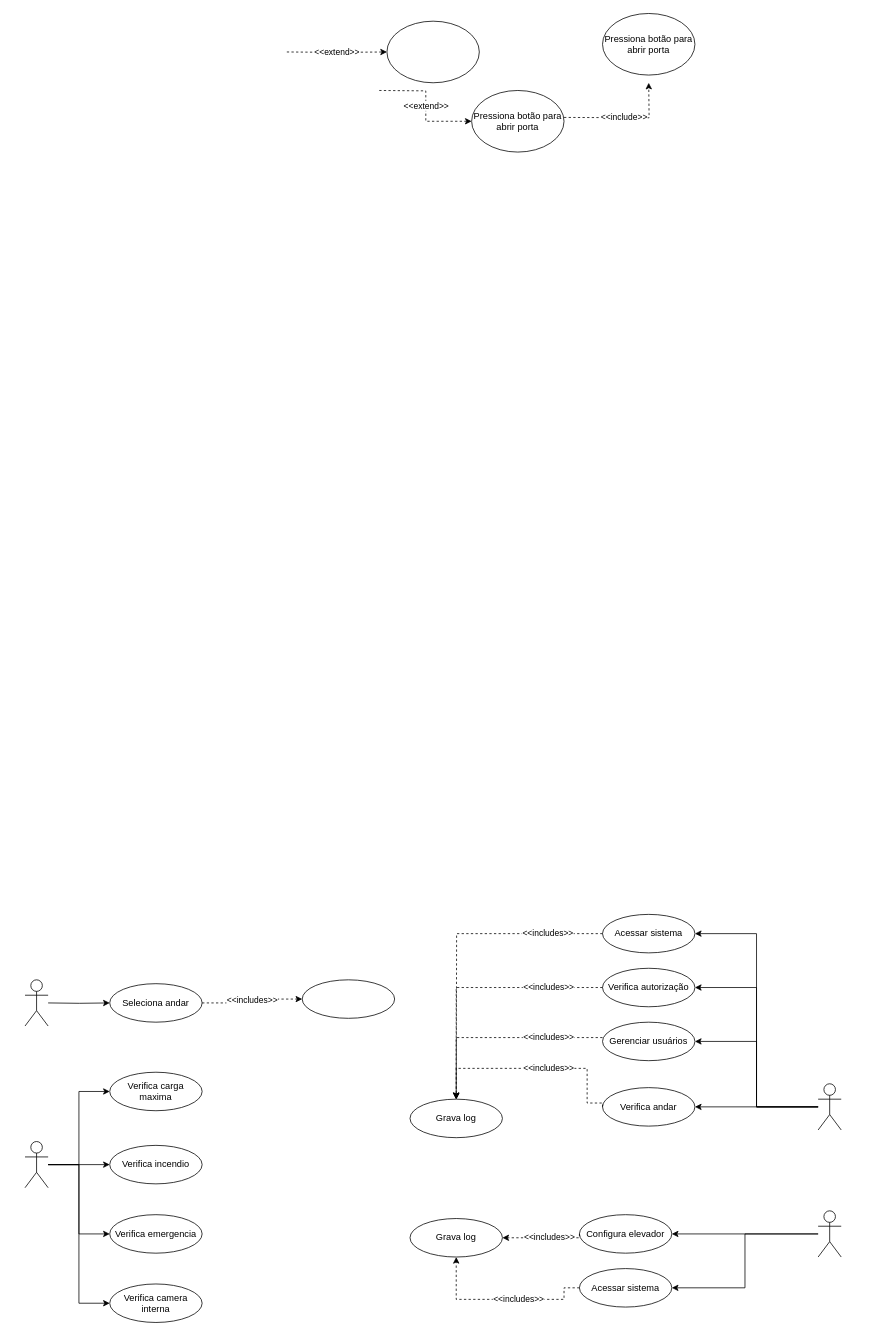
This 895x1336 diagram has some shape labels left out. Here are the shapes that lost their labels. From the top down, the centre of each, then its label:
At (432,51): "Pressiona botão para fechar porta".
At (36,1002): "Passageiro".
At (348,998): "Interagir com painel".
At (829,1106): "Master".
At (36,1164): "Periféricos".
At (829,1233): "Usuario sala de comando".
